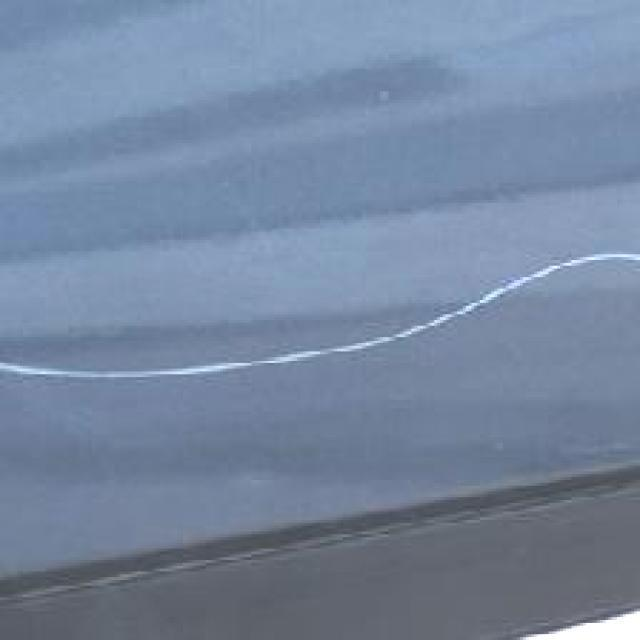minor: (17, 230, 593, 395)
